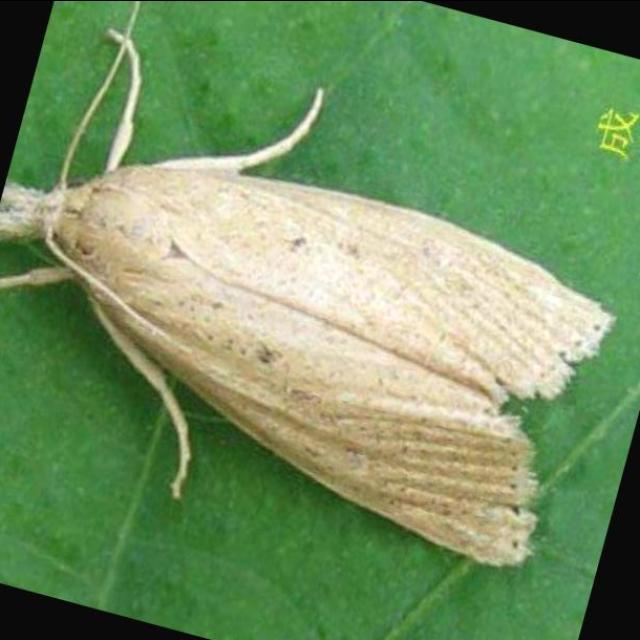stem borer: (0, 29, 613, 566)
